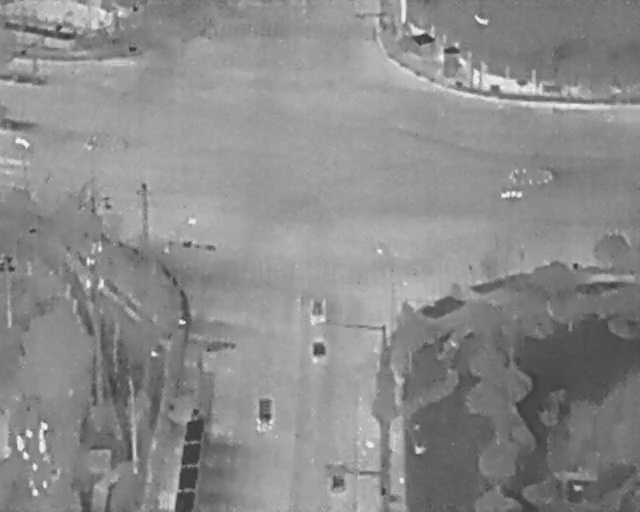Car: (327, 460, 348, 495), (256, 395, 275, 431), (309, 297, 327, 325), (309, 339, 329, 363)
